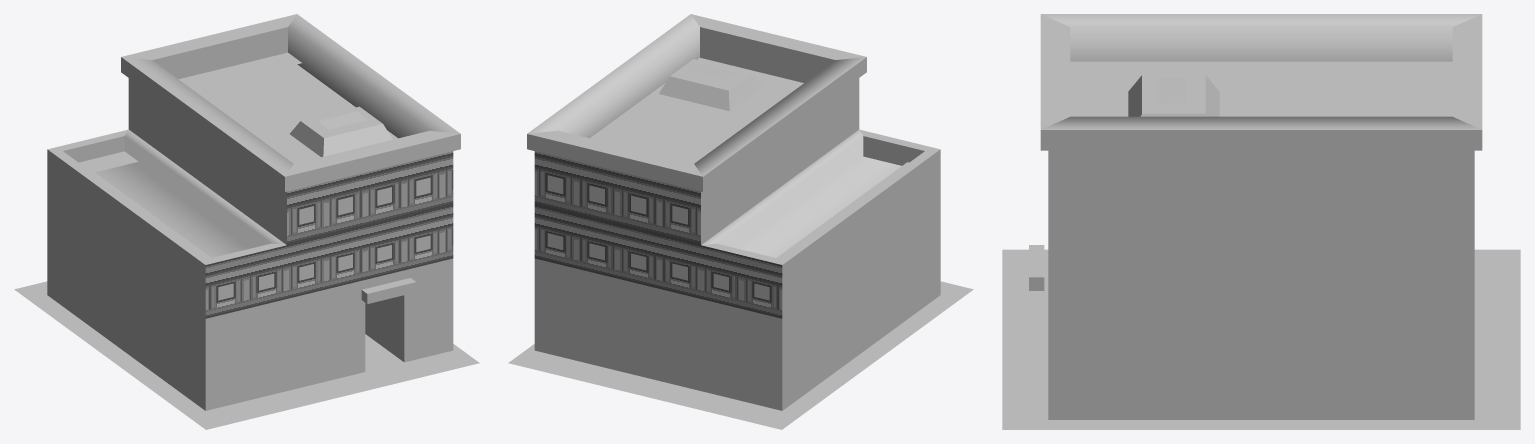
The model's file is Nimbasa City Building 1.obj.
3 renders of one model, left to right at view 1: azimuth 30°, elevation 25°; view 2: azimuth 150°, elevation 25°; view 3: azimuth 270°, elevation 25°, orthographic. The views are drawn at different scales.
Parts seen in each view (by area): view 1: polygon6, polygon3, polygon5, polygon1, polygon7, polygon4, polygon0, polygon2; view 2: polygon6, polygon3, polygon5, polygon1, polygon0, polygon7, polygon4, polygon2; view 3: polygon3, polygon1, polygon4, polygon6, polygon0, polygon7.
Part boxes in pixels (box(x1,y1,x2,y2)): polygon6: box(121, 14, 460, 410); polygon3: box(47, 27, 429, 410); polygon5: box(205, 151, 453, 318); polygon1: box(47, 78, 286, 318); polygon7: box(48, 106, 416, 371); polygon4: box(14, 52, 479, 429); polygon0: box(95, 64, 397, 257); polygon2: box(218, 177, 430, 300); polygon6: box(527, 14, 866, 410); polygon3: box(558, 27, 940, 410); polygon5: box(534, 151, 782, 318); polygon1: box(701, 78, 940, 318); polygon0: box(590, 58, 901, 257); polygon7: box(659, 59, 939, 264); polygon4: box(508, 86, 973, 429); polygon2: box(547, 175, 769, 300); polygon3: box(1040, 27, 1482, 419); polygon1: box(1048, 150, 1474, 295); polygon4: box(1002, 61, 1520, 429); polygon6: box(1040, 14, 1482, 129); polygon0: box(1070, 71, 1413, 116); polygon7: box(1029, 75, 1219, 290).
Bounding box in the file's own units: 112 × 86 × 136.
